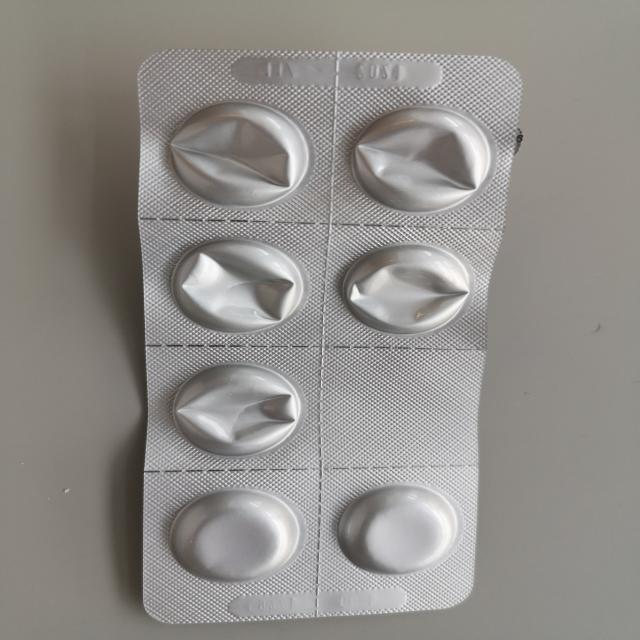Empty: (159, 98, 316, 210), (346, 102, 494, 215), (166, 360, 306, 461), (167, 236, 309, 335), (341, 242, 476, 337)
Pill: (166, 486, 306, 582), (333, 483, 462, 576)
